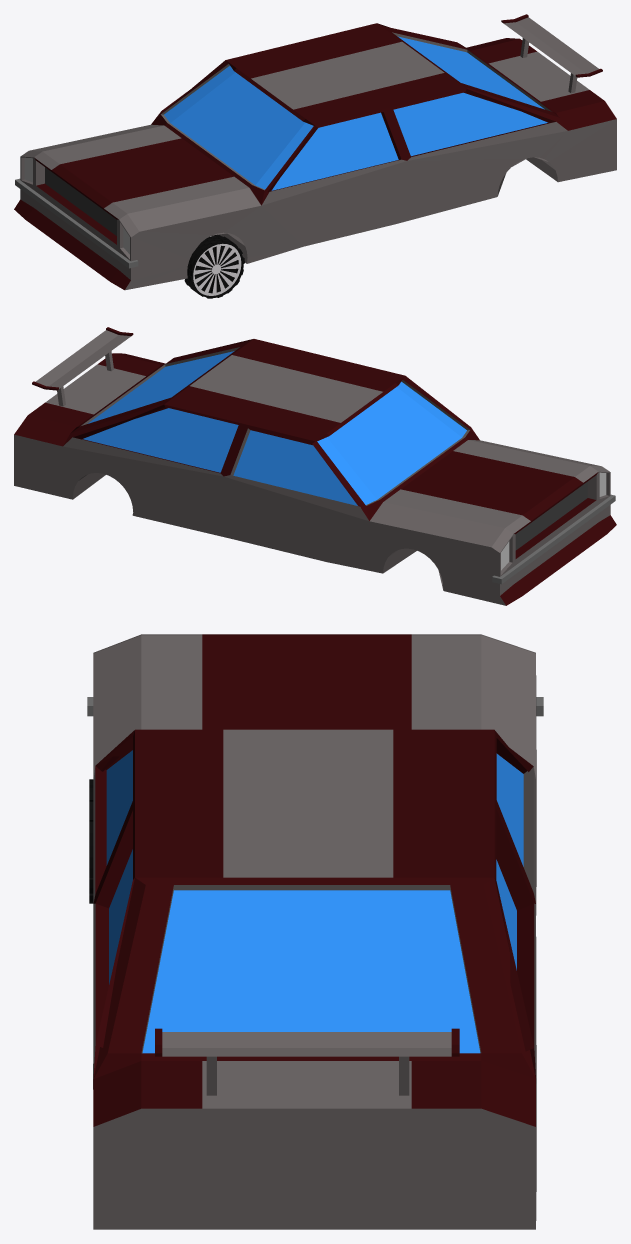
The model's file is frontL.obj.
3 views of the same model, one above another, from view 1: azimuth 30°, elevation 25°; view 2: azimuth 150°, elevation 25°; view 3: azimuth 270°, elevation 25° (orthographic). The views are drawn at different scales.
Parts seen in each view (by area): view 1: Cube, Cylinder.003, Plane.001, Cube.001; view 2: Cube, Plane.001, Cube.001; view 3: Cube, Plane.001.
Boxes of the visible parts, <box> form: Cube: <box>14,23,616,290</box>; Cylinder.003: <box>184,234,244,298</box>; Plane.001: <box>501,14,602,77</box>; Cube.001: <box>15,178,138,268</box>; Cube: <box>14,339,616,605</box>; Plane.001: <box>32,327,133,390</box>; Cube.001: <box>492,494,615,584</box>; Cube: <box>93,634,536,1229</box>; Plane.001: <box>155,1028,459,1056</box>.
Size of the model in its own units: 6.5 by 1.72 by 2.59.
